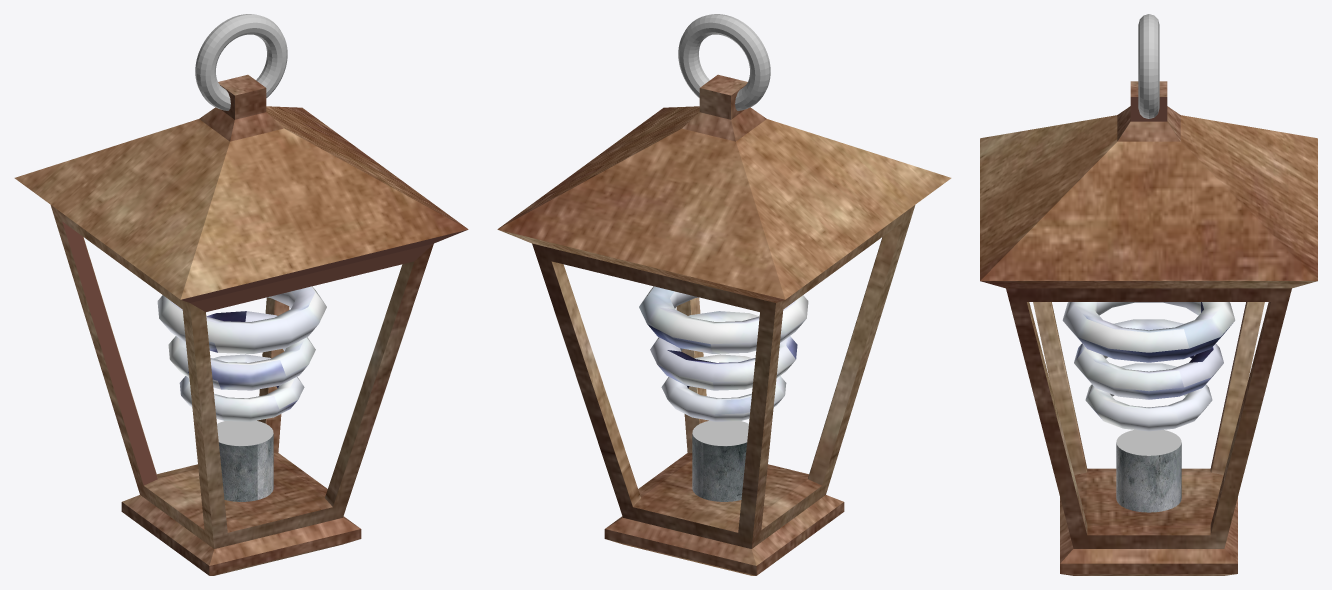
The model's file is lamp.obj.
3 views of the same model, side by side, from view 1: azimuth 30°, elevation 25°; view 2: azimuth 150°, elevation 25°; view 3: azimuth 270°, elevation 25° (orthographic).
Visible parts, largest first — view 1: Plane_Material.006, Plane_Material.007, Plane_Material.008, Plane_, Plane_Material.012; view 2: Plane_Material.006, Plane_Material.007, Plane_Material.008, Plane_, Plane_Material.012; view 3: Plane_Material.006, Plane_Material.007, Plane_Material.008, Plane_Material.012, Plane_.
Part boxes in pixels (<box>): Plane_Material.006: <box>14,106,468,299</box>; Plane_Material.007: <box>50,74,467,575</box>; Plane_Material.008: <box>157,286,326,421</box>; Plane_: <box>195,14,287,446</box>; Plane_Material.012: <box>219,434,273,501</box>; Plane_Material.006: <box>497,106,951,299</box>; Plane_Material.007: <box>498,74,915,575</box>; Plane_Material.008: <box>639,286,808,421</box>; Plane_: <box>678,14,770,446</box>; Plane_Material.012: <box>692,434,746,501</box>; Plane_Material.006: <box>980,115,1317,280</box>; Plane_Material.007: <box>980,81,1317,575</box>; Plane_Material.008: <box>1062,302,1235,431</box>; Plane_Material.012: <box>1116,443,1181,512</box>; Plane_: <box>1116,14,1181,455</box>.
Bounding box in the file's own units: 2 × 3.43 × 2.
